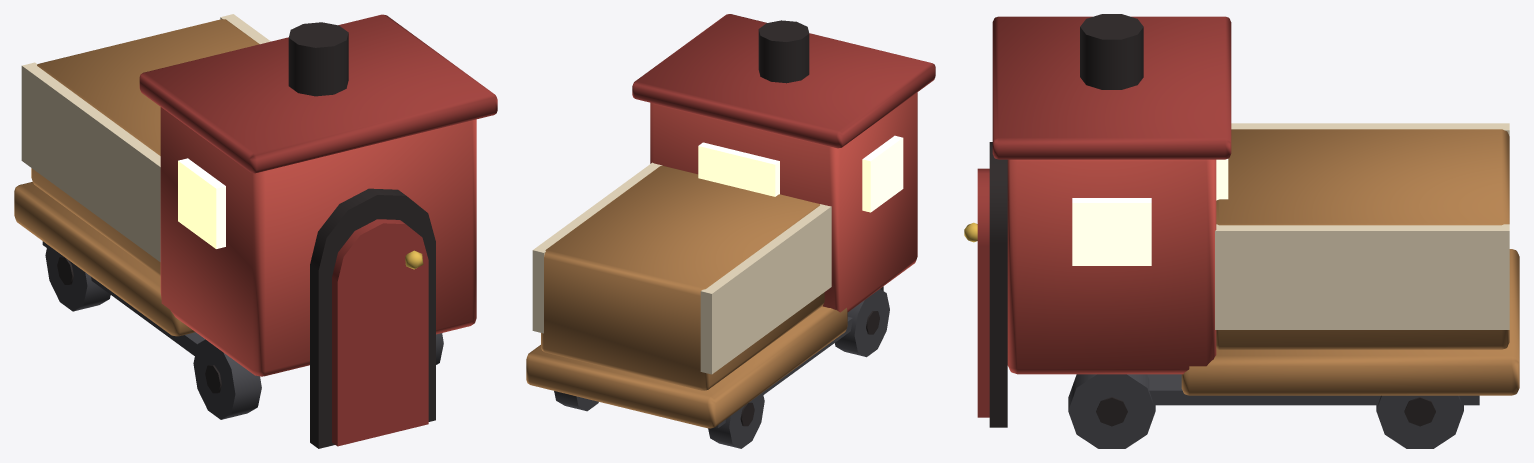
File: v_train.glb
The picture shows the model from 3 angles, left to right: view 1: azimuth 30°, elevation 25°; view 2: azimuth 150°, elevation 25°; view 3: azimuth 270°, elevation 25°; orthographic projection. The views are drawn at different scales.
Visible parts, largest first — view 1: Train; view 2: Train; view 3: Train.
Part boxes in pixels (left/top/right/bottom): Train: left=14, top=14, right=497, bottom=448; Train: left=526, top=14, right=935, bottom=448; Train: left=964, top=14, right=1519, bottom=448.
Bounding box in the file's own units: 1.5 × 2.06 × 2.79.
